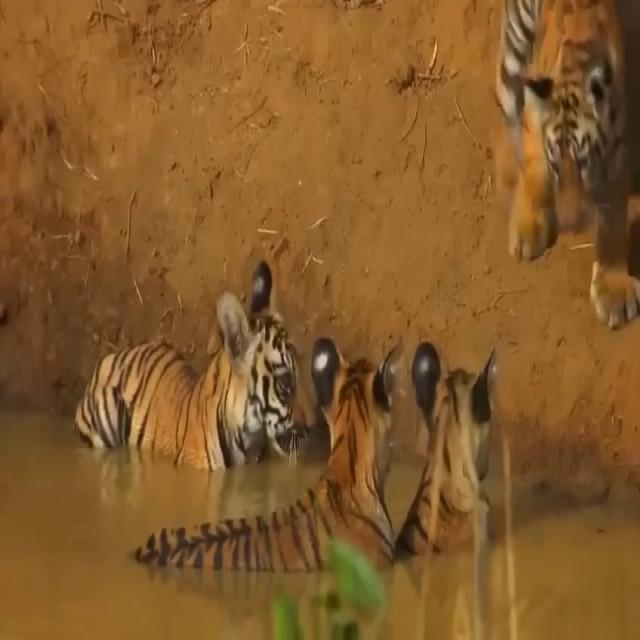tiger: (74, 263, 312, 467), (493, 0, 640, 328)
